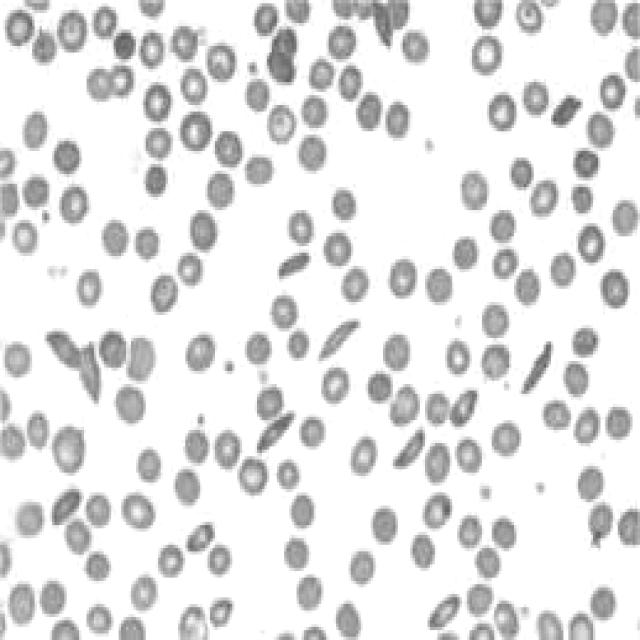sickle cell: (247, 400, 302, 466), (314, 318, 366, 378), (516, 338, 556, 410)
